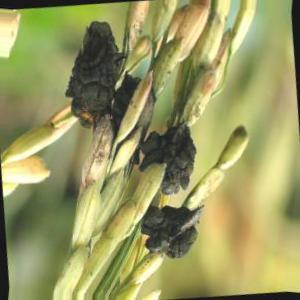False Smut: (68, 18, 131, 119), (142, 204, 208, 257), (155, 128, 206, 192)
